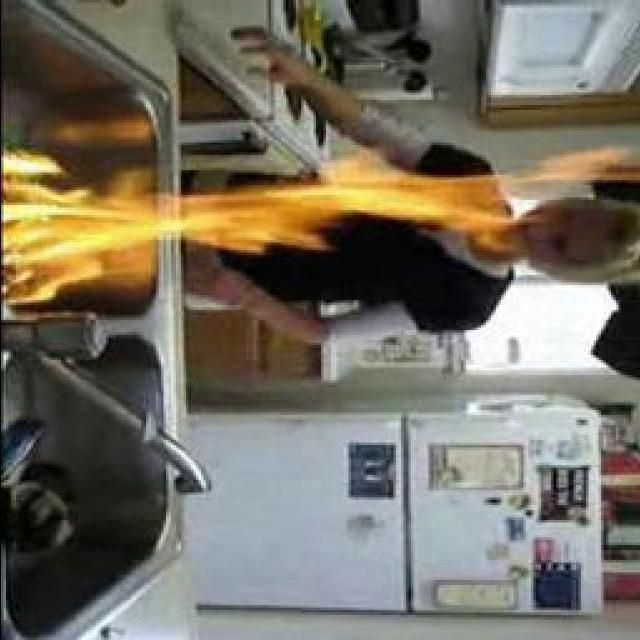Fire: (2, 152, 518, 309)
